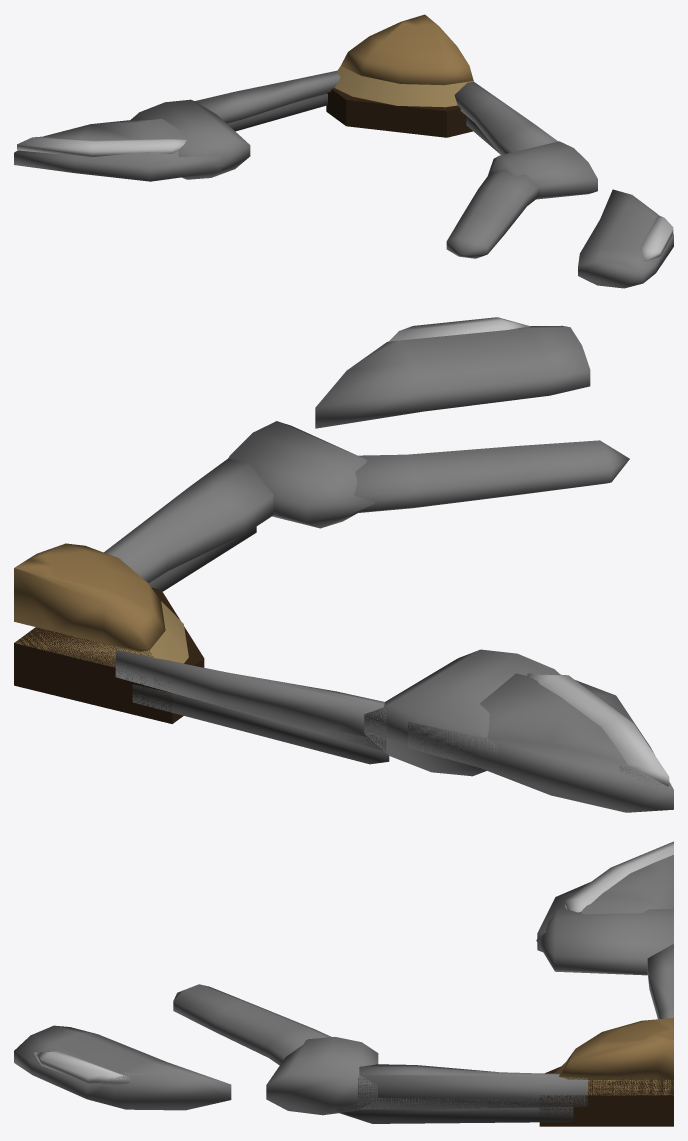
Rendered from newsh-hash-39-f3.glb.
3 renders of one model, top to bottom at view 1: azimuth 30°, elevation 25°; view 2: azimuth 150°, elevation 25°; view 3: azimuth 270°, elevation 25°, orthographic. The views are drawn at different scales.
Parts seen in each view (by area): view 1: newsh-hash-39-f3; view 2: newsh-hash-39-f3; view 3: newsh-hash-39-f3.
Boxes of the visible parts, x1,y1,x2,y2 form: newsh-hash-39-f3: (14, 14, 673, 288); newsh-hash-39-f3: (14, 317, 673, 812); newsh-hash-39-f3: (14, 841, 673, 1126).
Size of the model in its own units: 1.62 by 0.2763 by 1.91.
